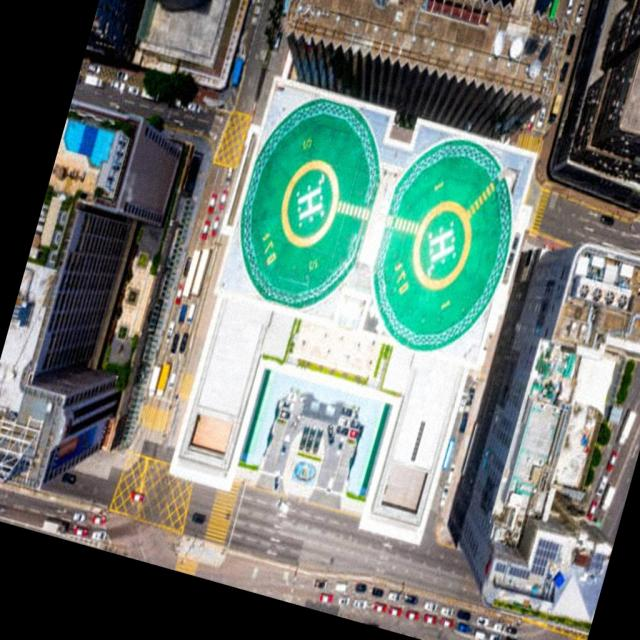helipad: (408, 197, 474, 292), (277, 157, 341, 250)
